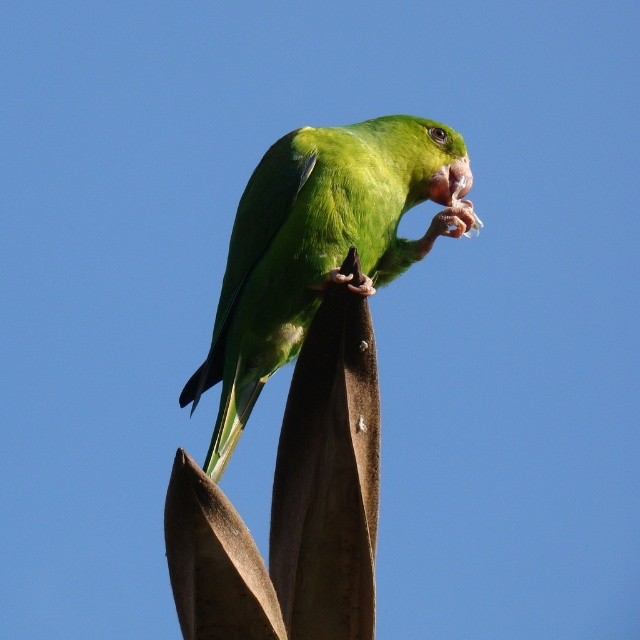Parrot: (180, 110, 486, 483)
